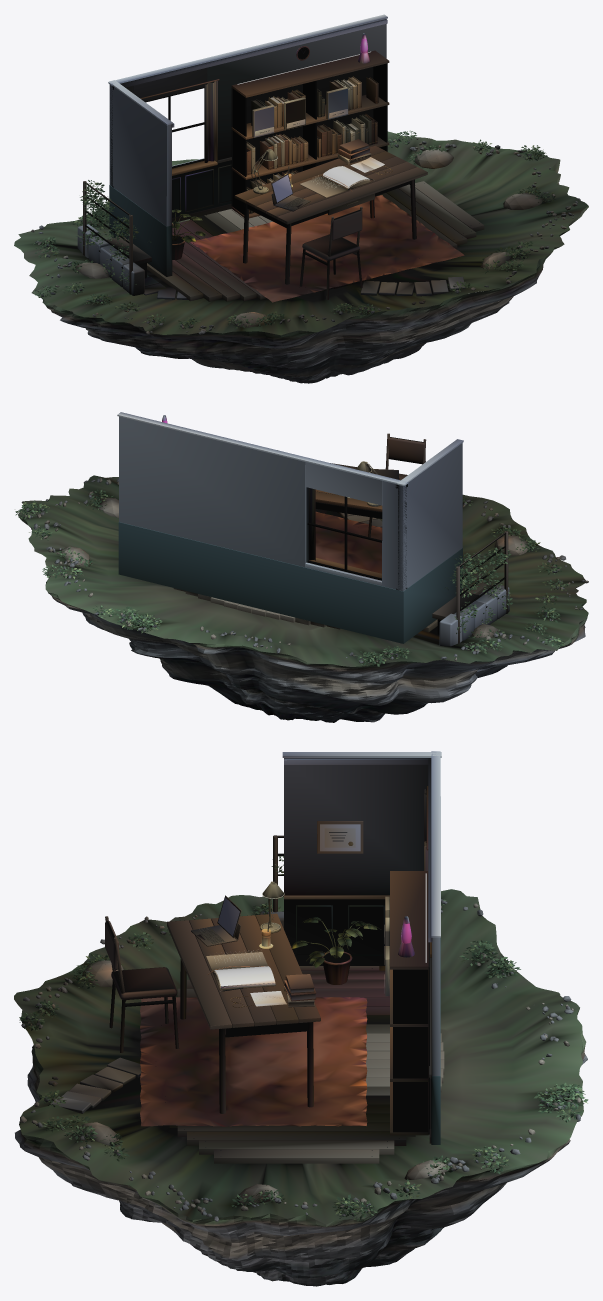
The model's file is flight-writing-73ab3483.glb.
3 views of the same model, one above another, from view 1: azimuth 30°, elevation 25°; view 2: azimuth 150°, elevation 25°; view 3: azimuth 270°, elevation 25° (orthographic). The views are drawn at different scales.
Visible parts, largest first — view 1: Writing island · flight.001; view 2: Writing island · flight.001; view 3: Writing island · flight.001.
Part boxes in pixels (x1=…): Writing island · flight.001: x1=14, y1=14, x2=588, y2=383; Writing island · flight.001: x1=15, y1=412, x2=588, y2=722; Writing island · flight.001: x1=14, y1=751, x2=588, y2=1286.
Bounding box in the file's own units: 11.74 × 6.45 × 8.16.
